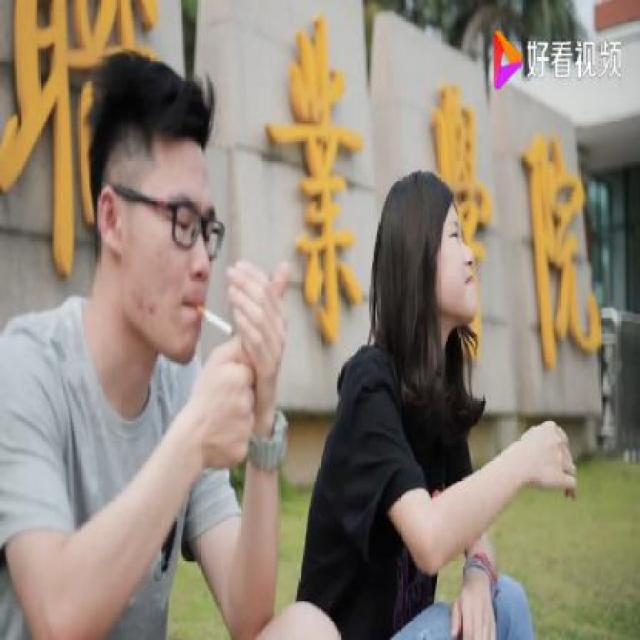smoke: (194, 292, 240, 346)
